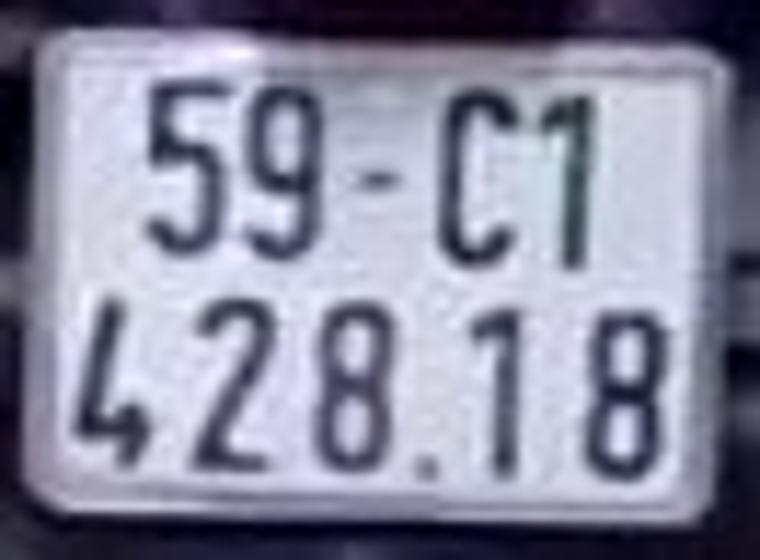-: (343, 160, 403, 202)
.: (414, 448, 444, 480)
1: (540, 86, 598, 278), (471, 310, 534, 482)
2: (190, 294, 273, 472)
4: (72, 298, 151, 466)
5: (140, 73, 227, 255)
8: (303, 297, 396, 471), (577, 310, 665, 484)
9: (243, 85, 316, 261)
C: (421, 86, 516, 265)
